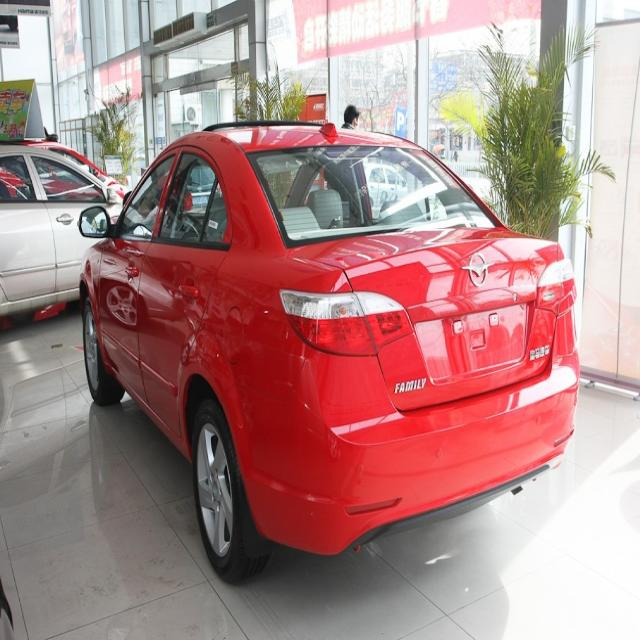back_glass: (248, 148, 501, 252)
back_left_side_light: (279, 281, 415, 360)
back_right_side_light: (534, 259, 580, 319)
door: (140, 151, 238, 418)
front_left_side_door: (96, 142, 183, 415)
front_left_side_mirror: (78, 202, 116, 246)
rear_bumper: (252, 352, 585, 558)
wheel: (190, 394, 273, 584), (80, 289, 125, 409)
